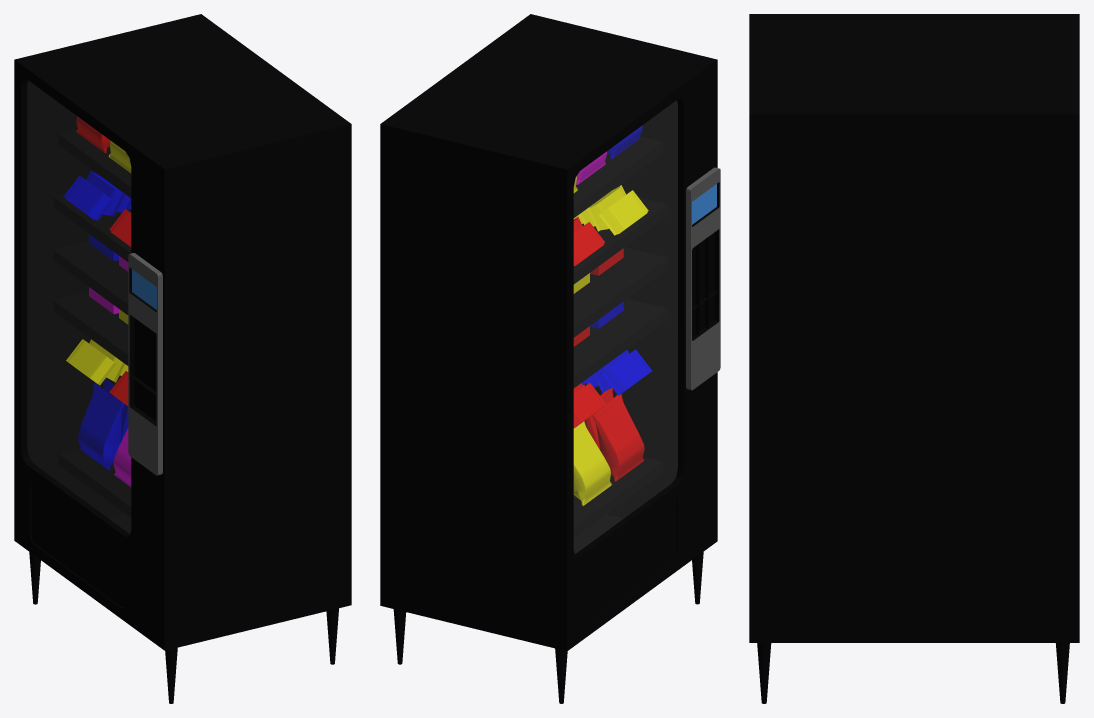
File: vendingmachine.fbx
3 views of the same model, side by side, from view 1: azimuth 30°, elevation 25°; view 2: azimuth 150°, elevation 25°; view 3: azimuth 270°, elevation 25° (orthographic). The views are drawn at different scales.
Parts seen in each view (by area): view 1: vending_machine; view 2: vending_machine; view 3: vending_machine.
Part boxes in pixels (<box>): vending_machine: <box>14,14,351,703</box>; vending_machine: <box>380,14,720,703</box>; vending_machine: <box>749,14,1079,703</box>.
Bounding box in the file's own units: 18.39 × 49.65 × 24.96.
